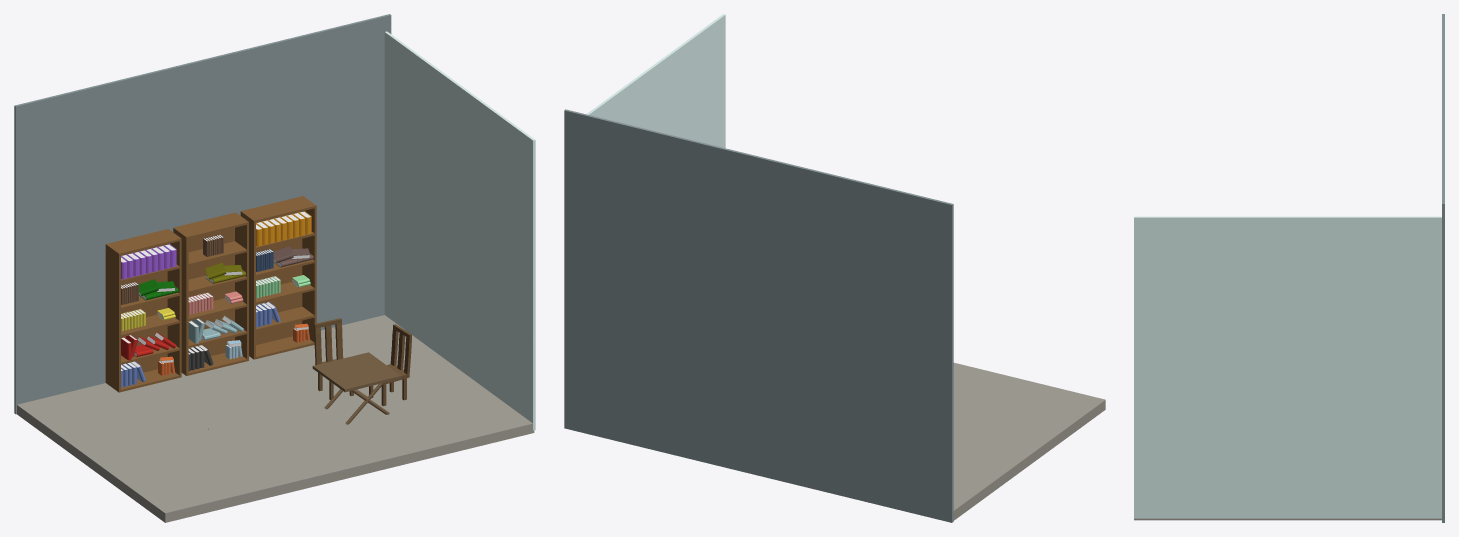
The model's file is literatura.glb.
The picture shows the model from 3 angles, left to right: view 1: azimuth 30°, elevation 25°; view 2: azimuth 150°, elevation 25°; view 3: azimuth 270°, elevation 25°; orthographic projection. The views are drawn at different scales.
Visible parts, largest first — view 1: Cube.001, Cube, Cube.002, Cube_wood_0.001, Cube_wood_0, Cube_wood_0.002, table, Circle.011, Plane.005_chair_0.001, Plane.005_chair_0.002, Circle.011_pu_0.002, Circle.005 (+3 smaller); view 2: Cube.001, Cube, Cube.002; view 3: Cube.002, Cube.001, Cube.
Boxes of the visible parts, <box> form: Cube.001: <box>14,14,391,414</box>; Cube: <box>17,315,534,522</box>; Cube.002: <box>384,31,535,430</box>; Cube_wood_0.001: <box>173,212,248,375</box>; Cube_wood_0: <box>105,229,181,392</box>; Cube_wood_0.002: <box>240,196,316,359</box>; table: <box>312,352,401,424</box>; Circle.011: <box>121,243,176,279</box>; Plane.005_chair_0.001: <box>369,324,411,406</box>; Plane.005_chair_0.002: <box>314,318,353,400</box>; Circle.011_pu_0.002: <box>256,211,311,246</box>; Circle.005: <box>121,332,176,360</box>; Cube.001: <box>564,109,953,522</box>; Cube: <box>953,362,1105,520</box>; Cube.002: <box>586,14,725,148</box>; Cube.002: <box>1134,216,1441,518</box>; Cube.001: <box>1442,14,1444,522</box>; Cube: <box>1134,518,1441,520</box>.
Bounding box in the file's own units: 17.98 × 14.09 × 12.43.
